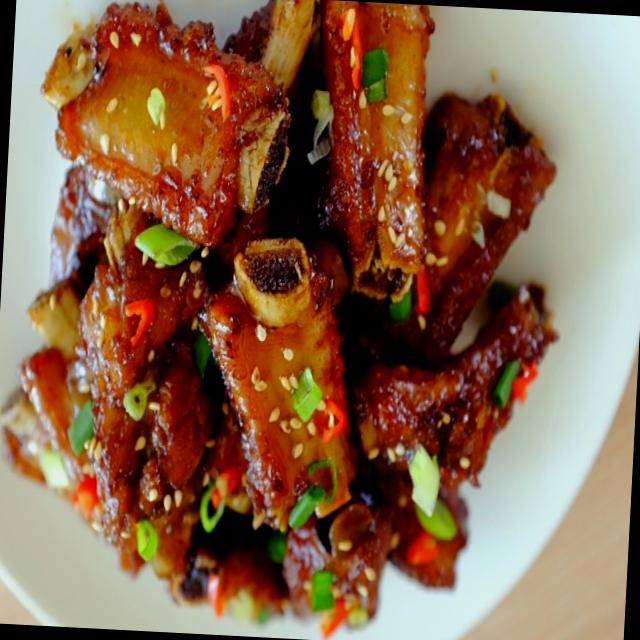suon xao: (3, 0, 555, 637)
